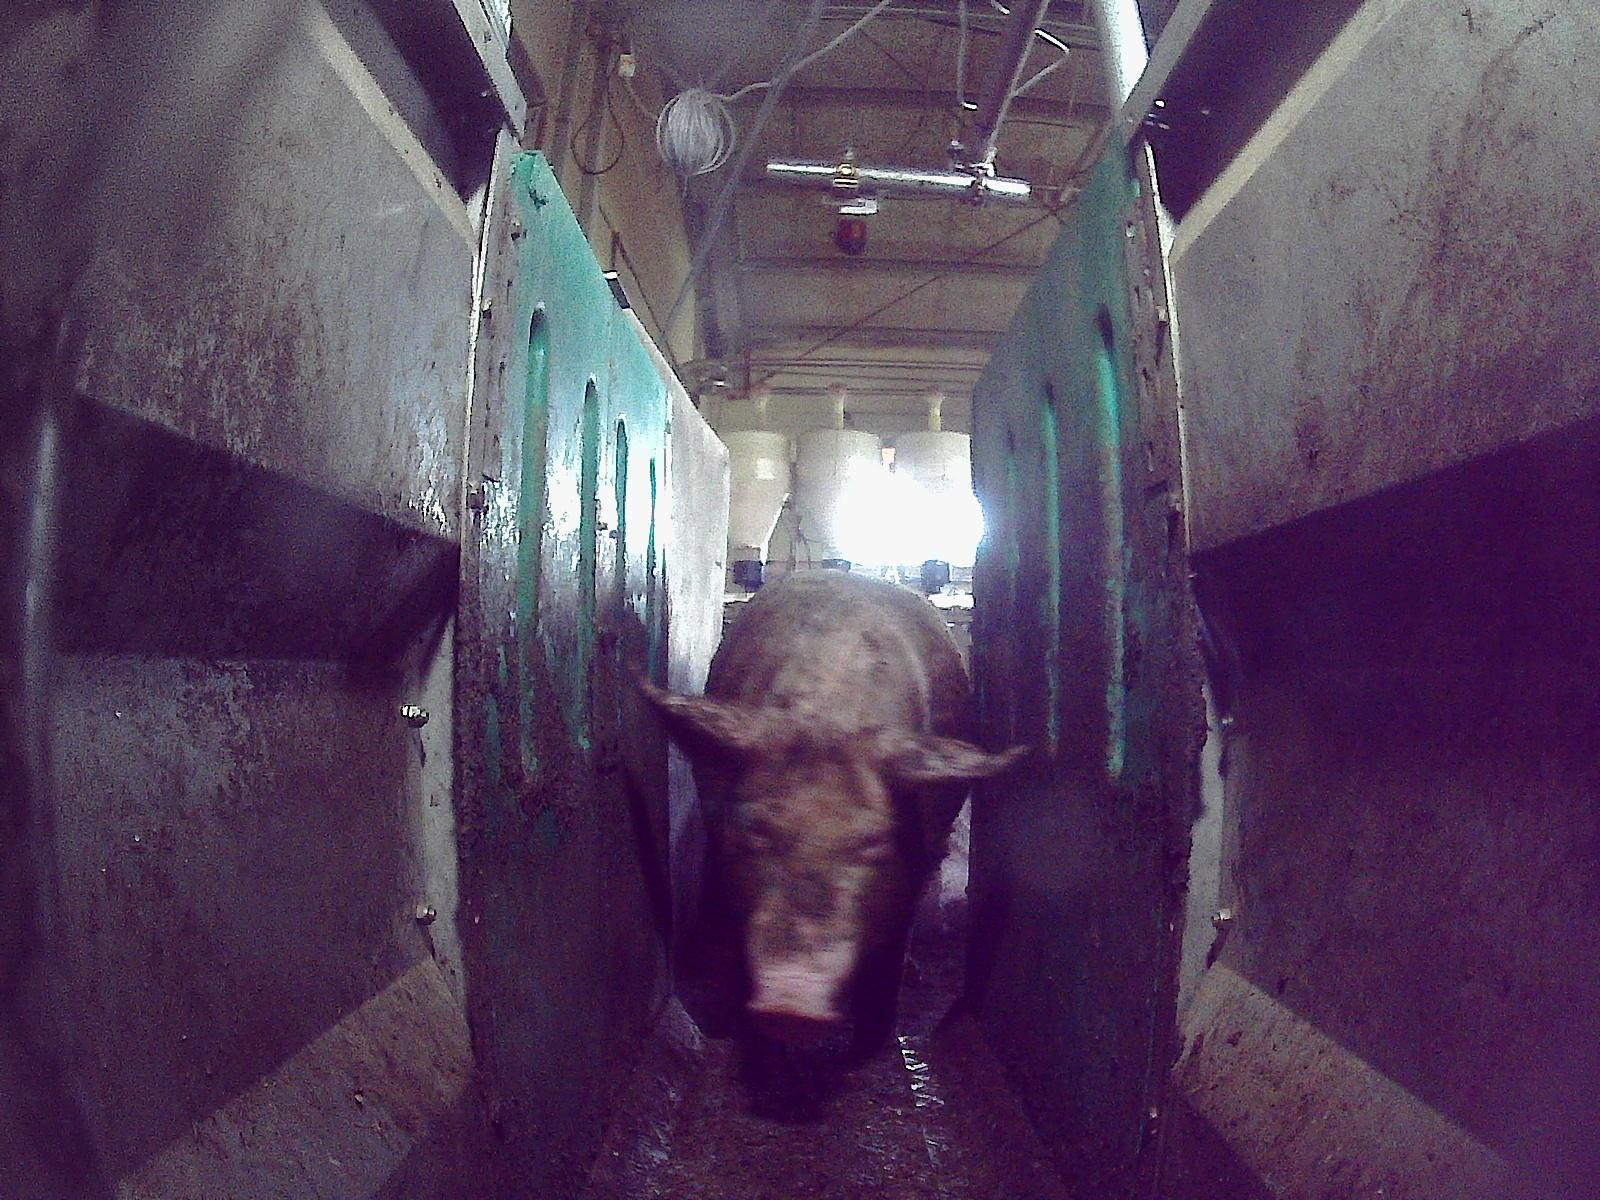Face: (699, 712, 916, 1037)
